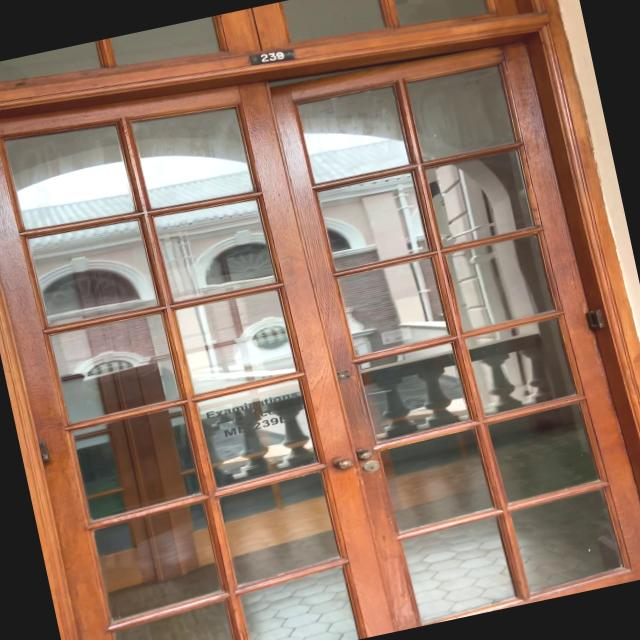room239: (244, 41, 296, 70)
